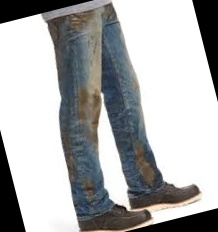earth: (74, 86, 103, 120), (58, 134, 79, 179), (135, 141, 153, 182), (69, 10, 93, 31), (83, 179, 96, 198), (104, 3, 113, 18)
